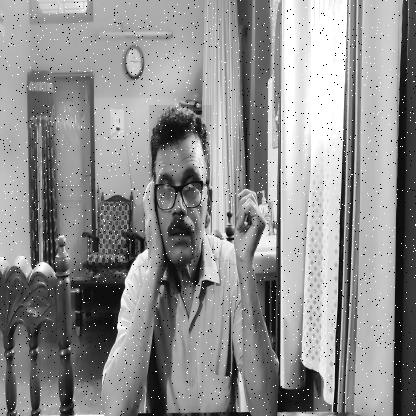Normal: (149, 105, 212, 267)
